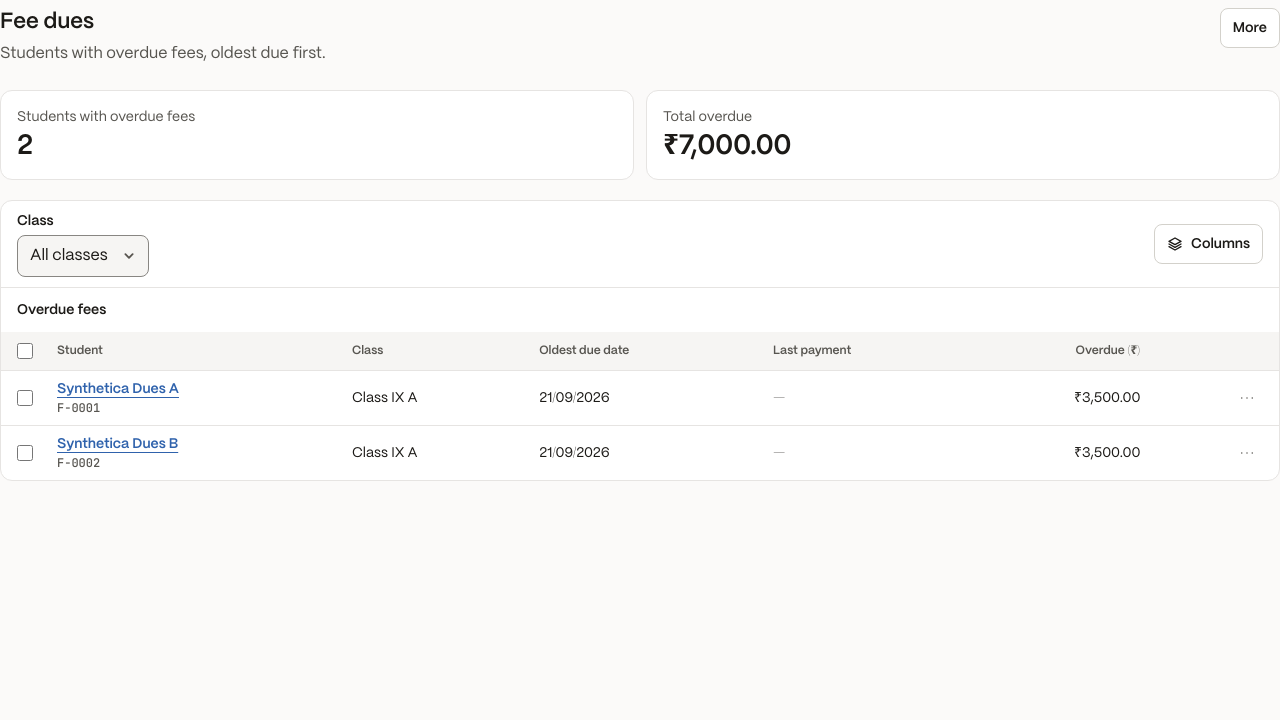
Send reminder from the dues list (FR-MSG-025) › previews the chosen rows, then sends with the preview token
Click the checkbox named "Select Synthetica Dues A": {"x": 25, "y": 398} [17, 390, 33, 406]
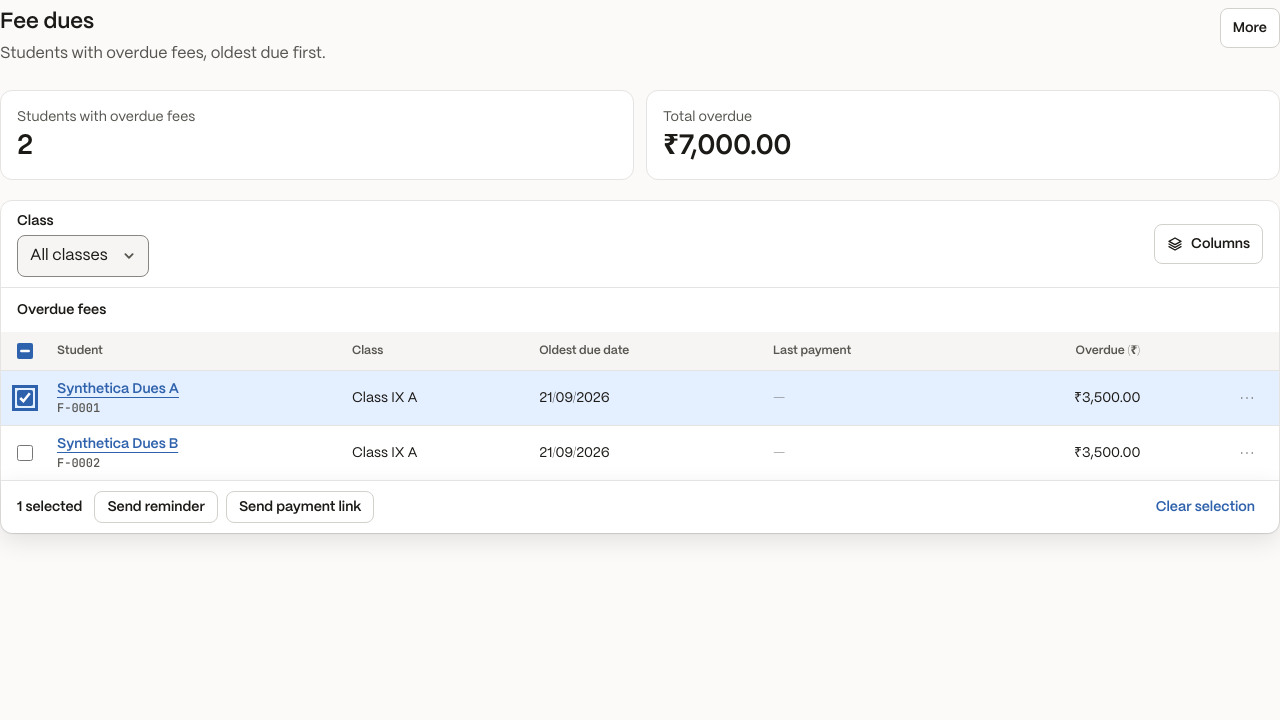
Click the button "Send reminder": {"x": 156, "y": 507} [94, 491, 218, 523]
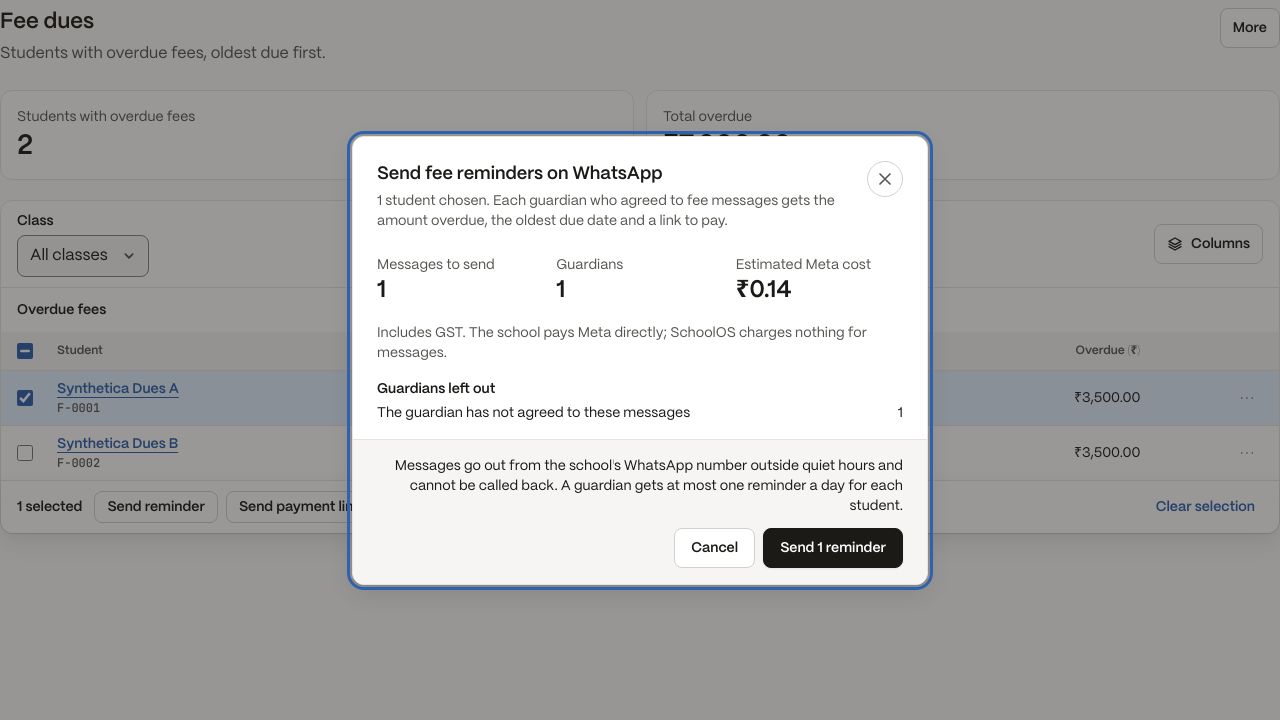
Check: the text "The guardian has not agreed to these messages" is shown, box [377, 402, 690, 422]
Check: the text "₹0.14" is shown, box [736, 278, 792, 302]
Click the button "Send 1 reminder": {"x": 833, "y": 548} [763, 528, 903, 568]
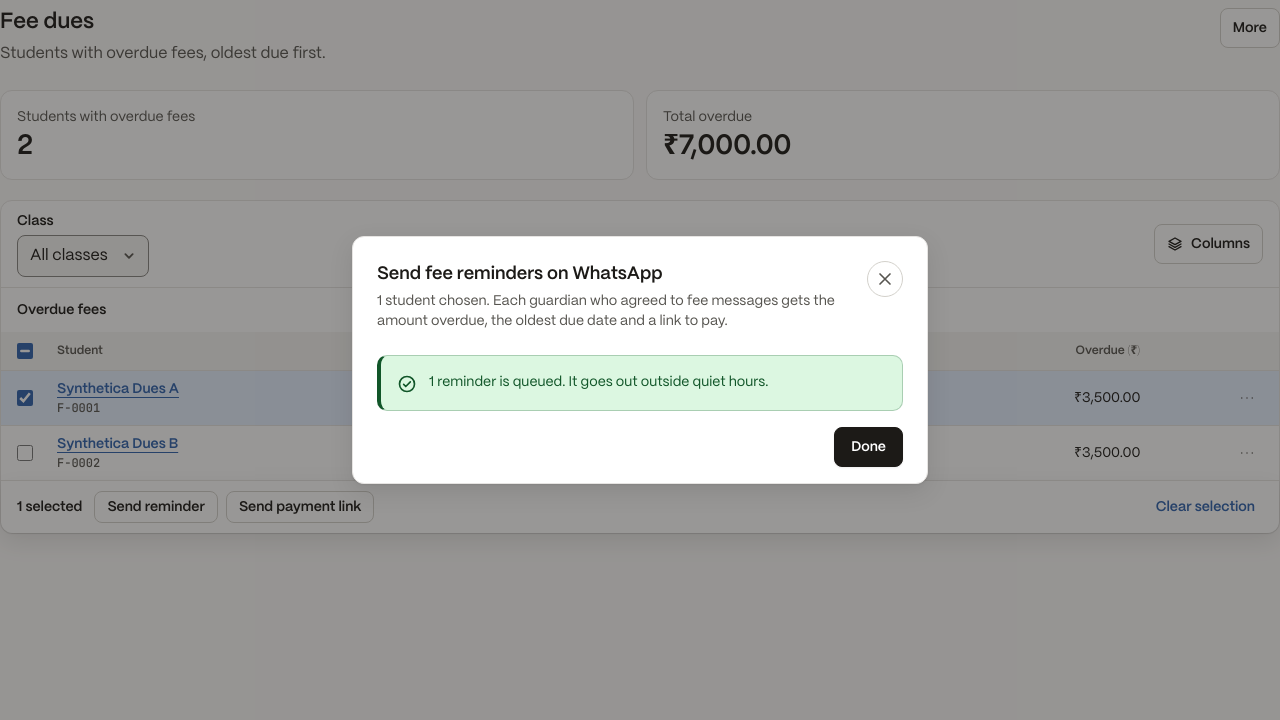
Check: the text "1 reminder is queued. It goes out outside quiet hours." is shown, box [429, 375, 768, 389]
